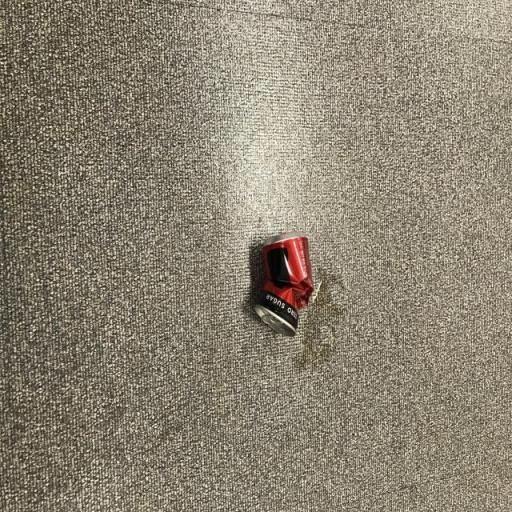metal: (249, 224, 328, 336)
